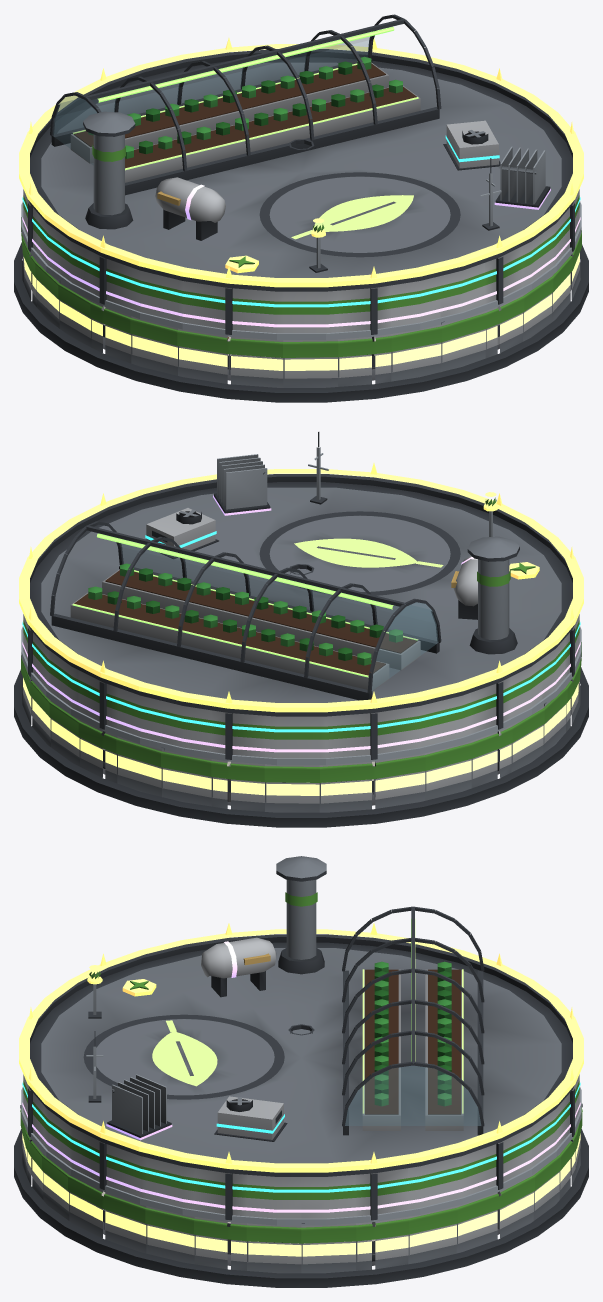
Rendered from kitchen_m_far.glb.
3 renders of one model, top to bottom at view 1: azimuth 30°, elevation 25°; view 2: azimuth 150°, elevation 25°; view 3: azimuth 270°, elevation 25°, orthographic.
Parts seen in each view (by area): view 1: Roof, Base, L5, L4, L2, L3; view 2: Roof, Base, L5, L4, L2, L3; view 3: Roof, Base, L5, L4, L2, L3.
Part boxes in pixels (x1,y1,x2,y2): Roof: (23,14,579,334); Base: (14,217,588,402); L5: (19,38,583,287); L4: (22,146,580,327); L2: (21,158,581,340); L3: (22,120,580,307); Roof: (23,474,579,759); Base: (14,642,588,827); L5: (19,463,583,712); L4: (22,454,580,752); L2: (21,432,581,765); L3: (22,508,580,732); Roof: (23,856,579,1220); Base: (14,1103,588,1287); L5: (19,923,583,1172); L4: (22,937,580,1212); L2: (21,1031,581,1225); L3: (22,1024,580,1192).
Bounding box in the file's own units: 13.55 × 5.54 × 13.55.
